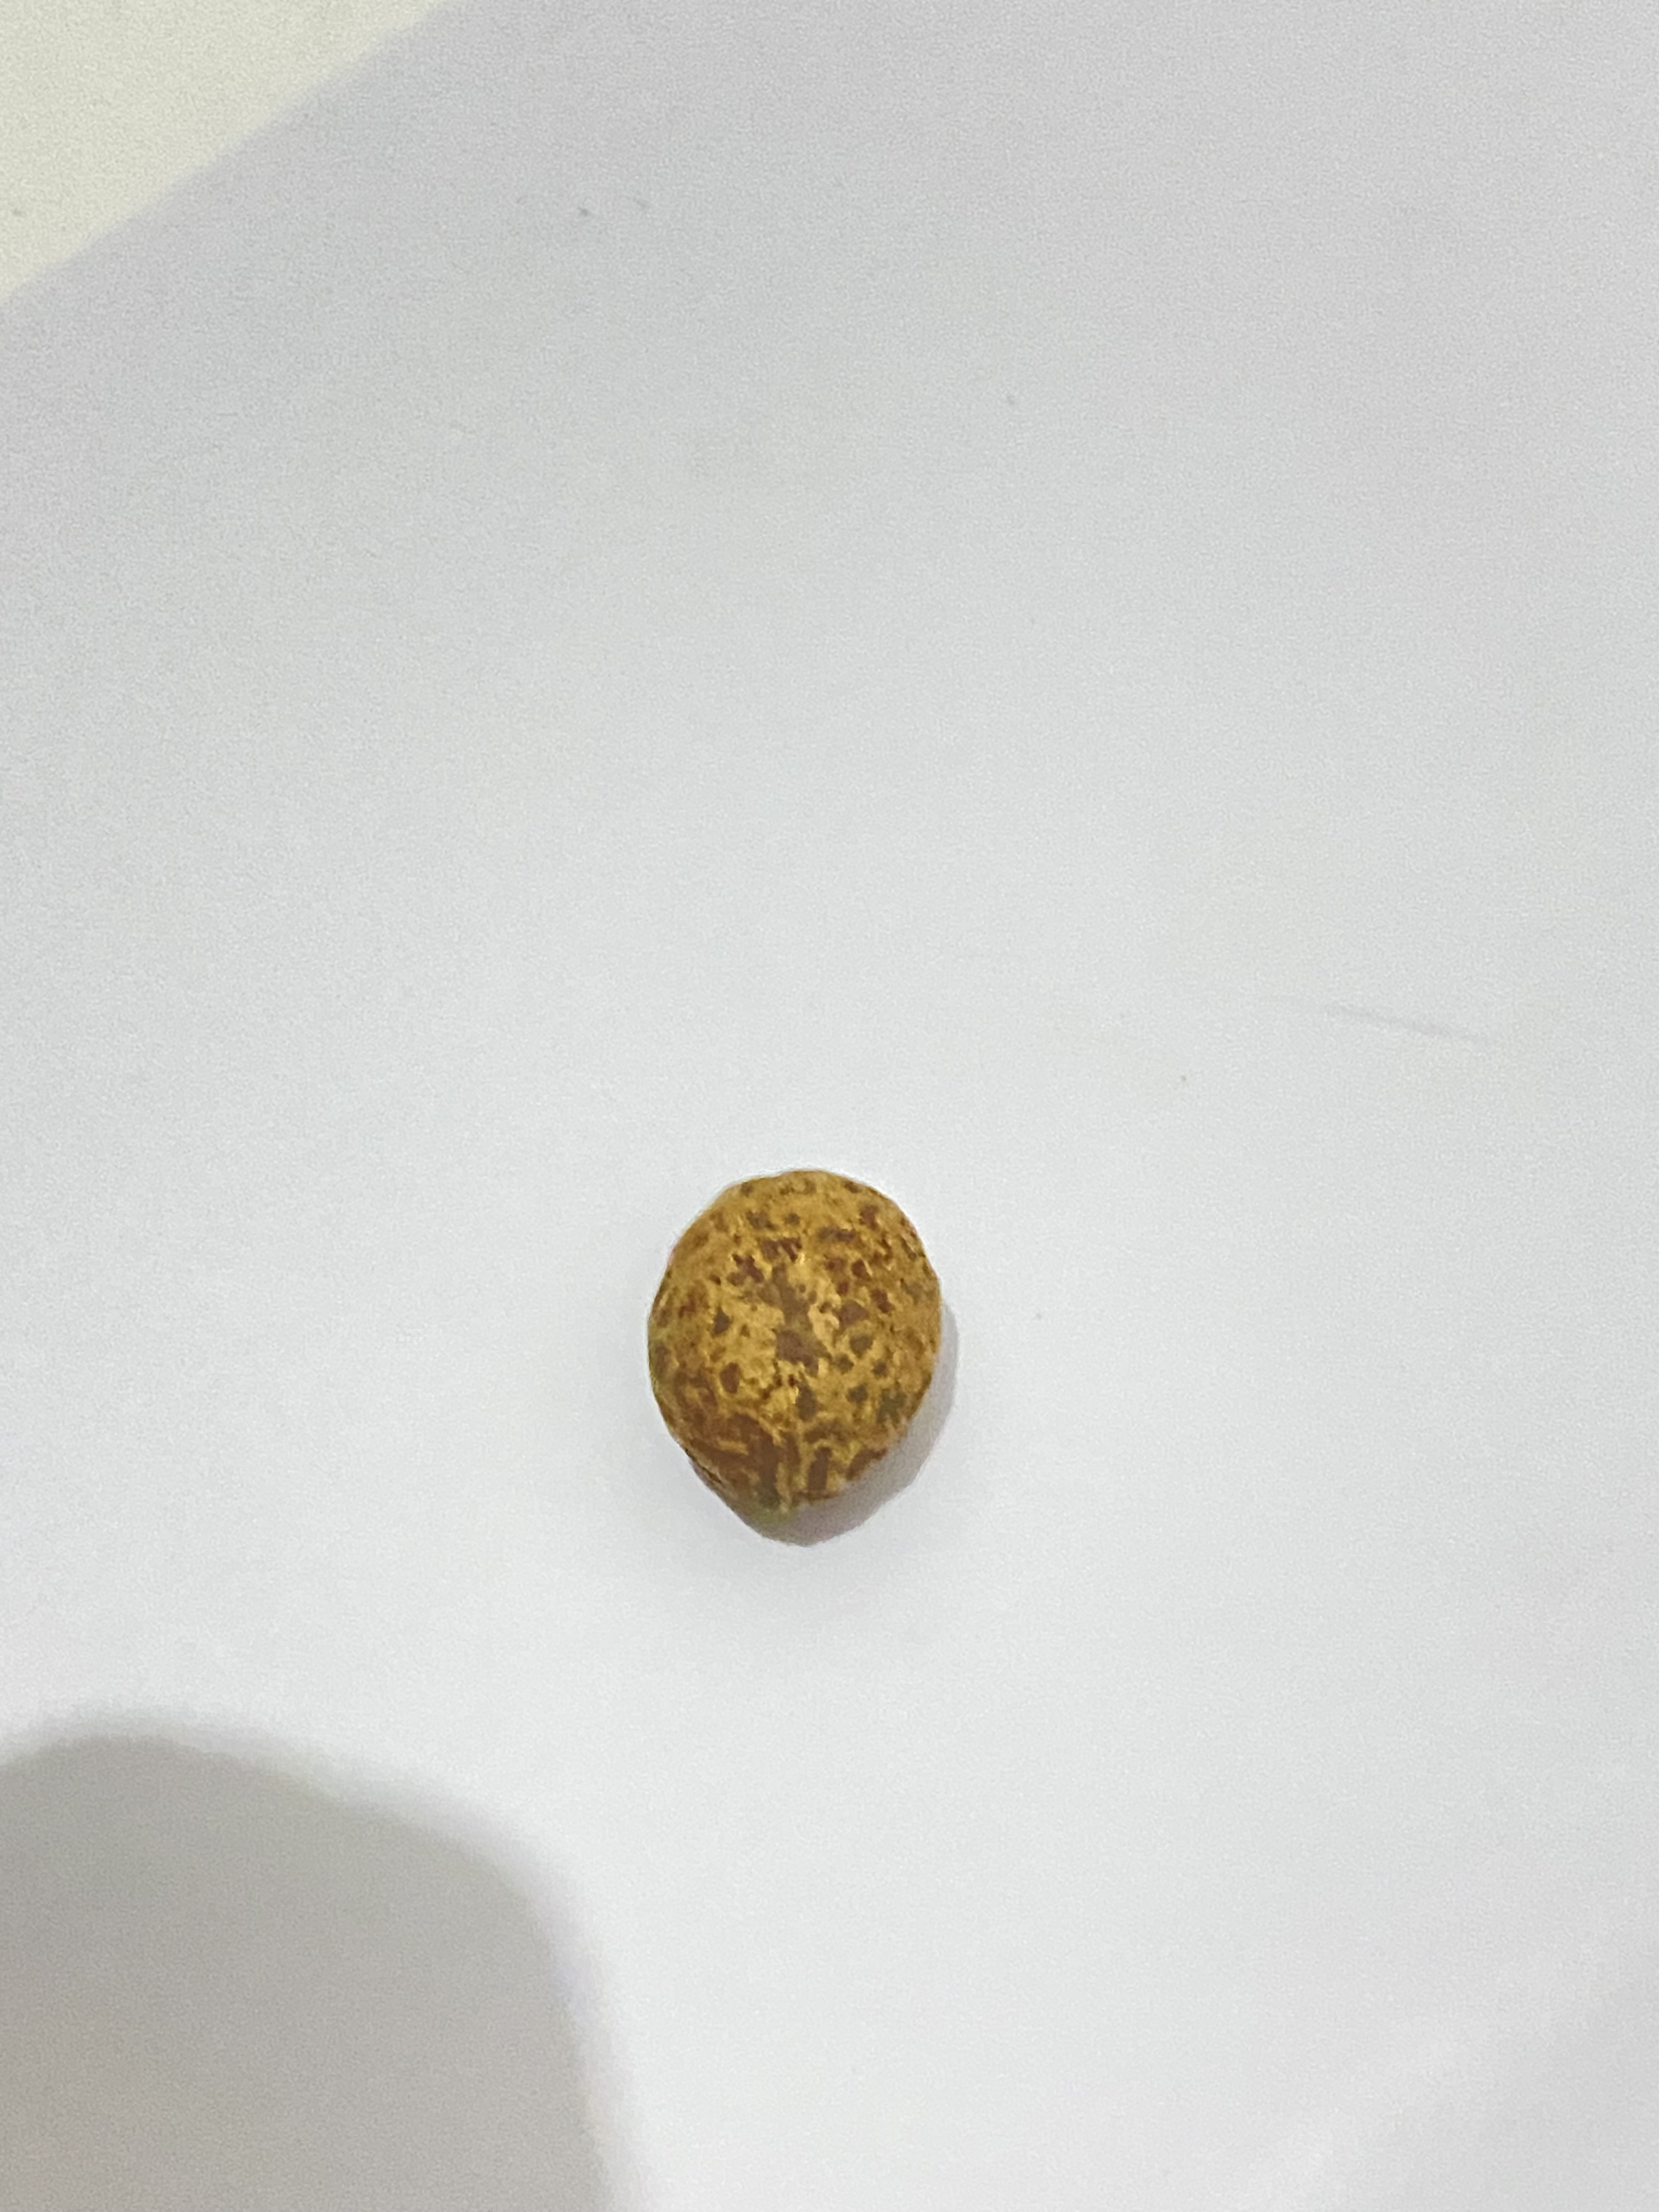kacang1: (584, 1141, 1002, 1541)
